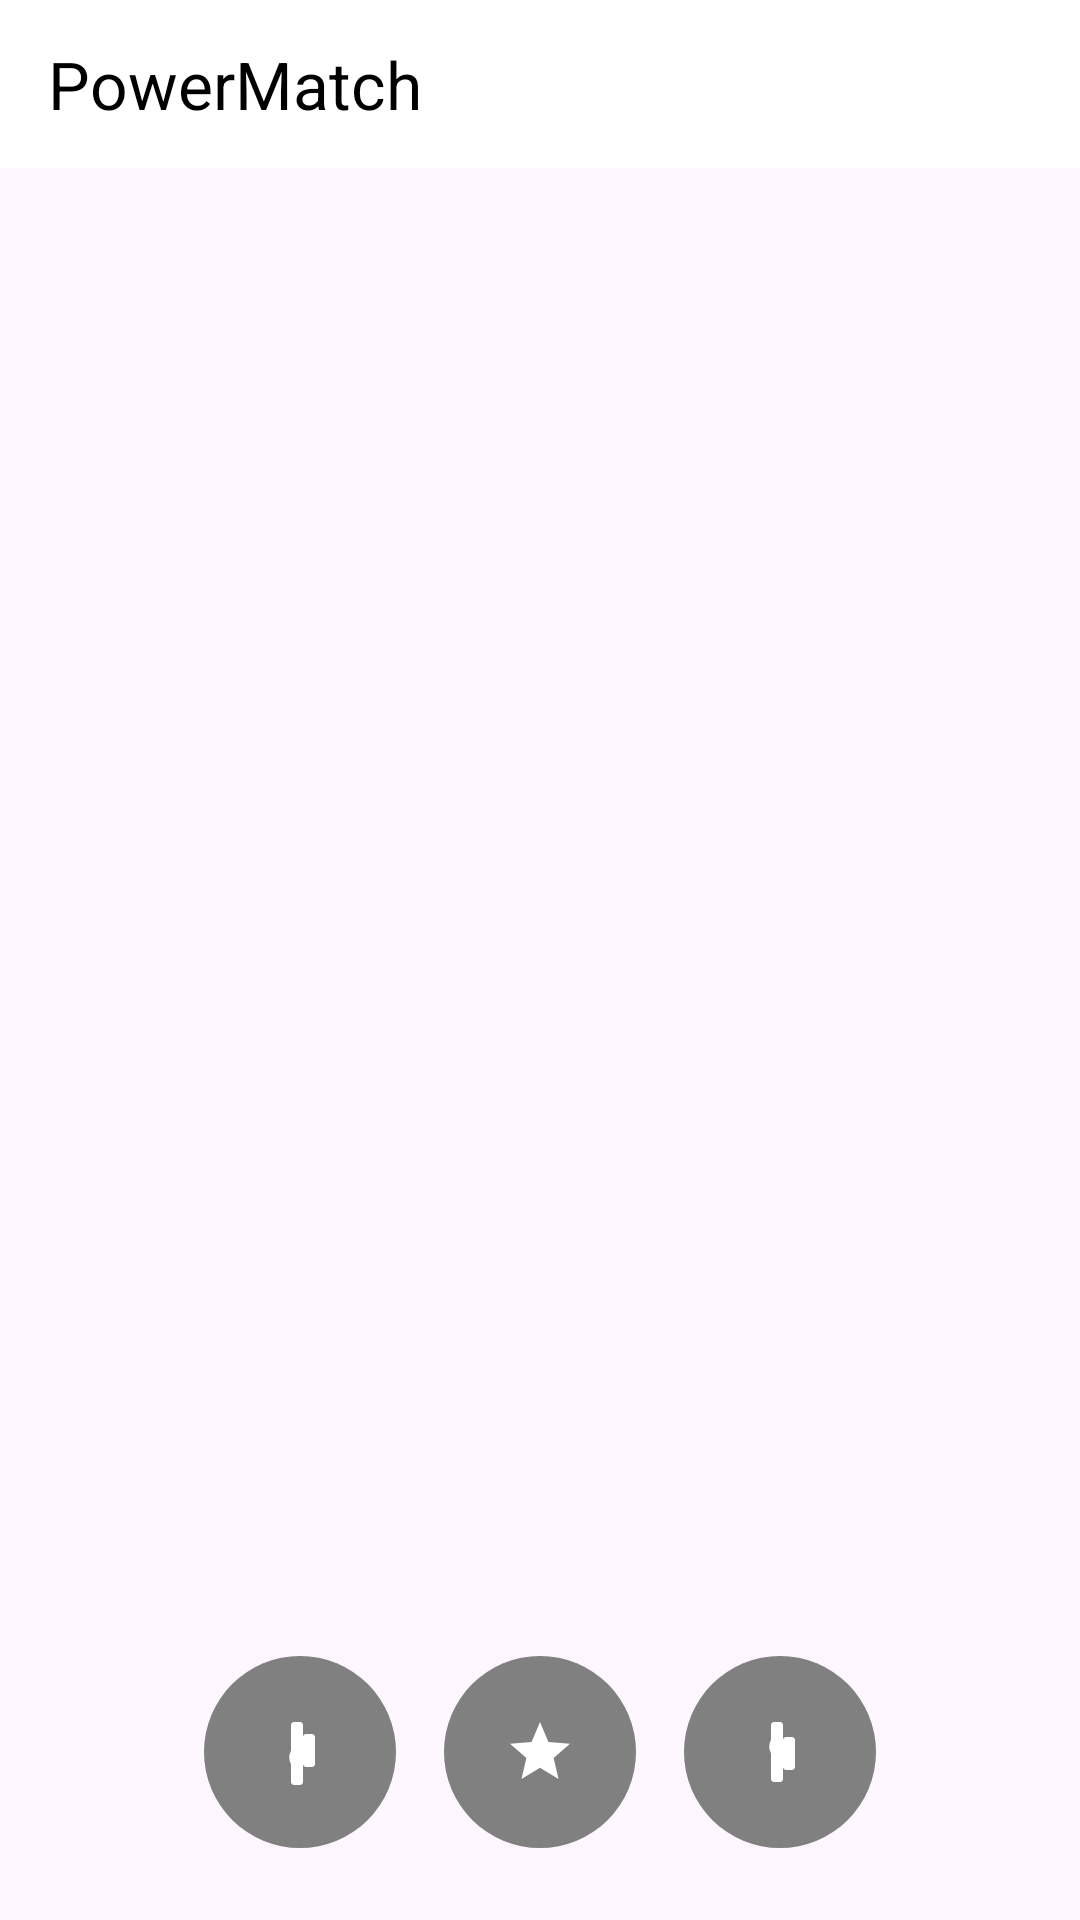

Screen size 1080x1920. Icon name, then its box in pixels as (x1, y1, x2, y2):
Favorite: (444, 1656, 636, 1848)
